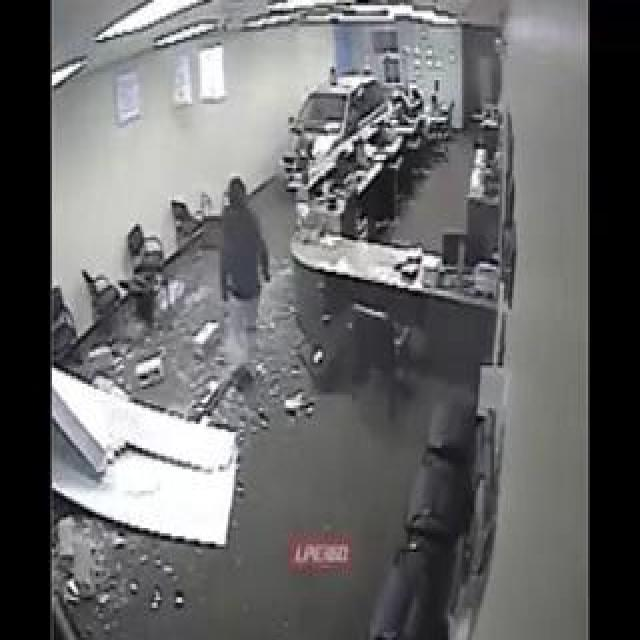thief: (206, 156, 268, 270)
